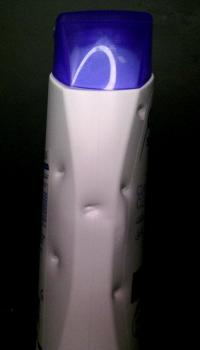dent_unacceptable: (74, 200, 109, 225), (114, 170, 135, 209), (50, 159, 76, 190), (103, 278, 128, 310), (45, 243, 67, 278), (131, 97, 152, 125)
